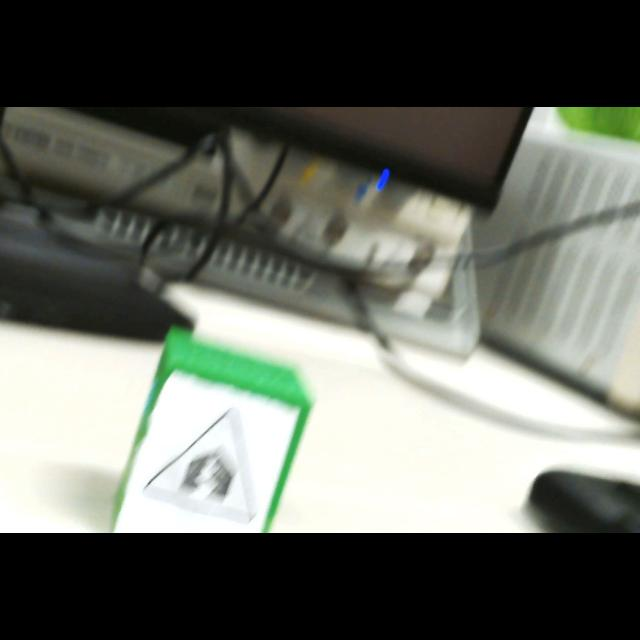Earthquake: (143, 408, 257, 526)
